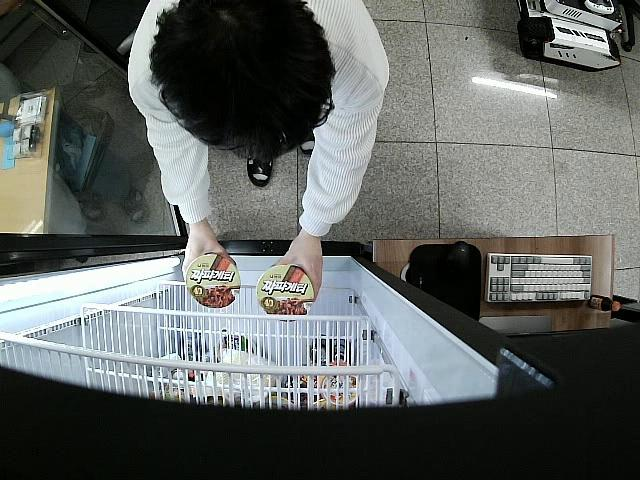00_hand: (272, 231, 323, 303), (181, 221, 229, 284)
03_chapagetti_L: (185, 251, 241, 309), (257, 265, 314, 321)
